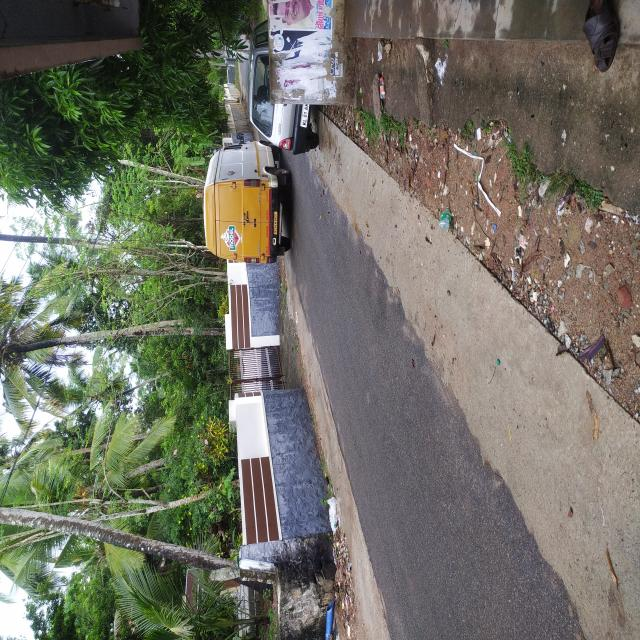Bus: (273, 270, 363, 395)
